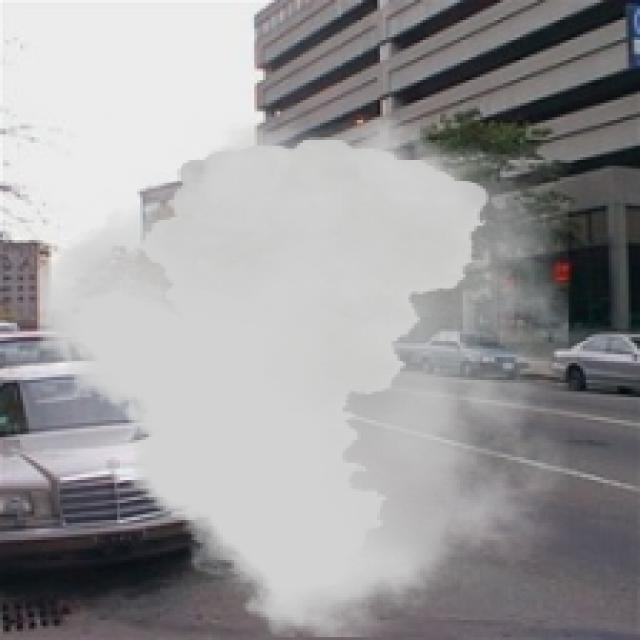Smoke: (37, 114, 569, 637)
